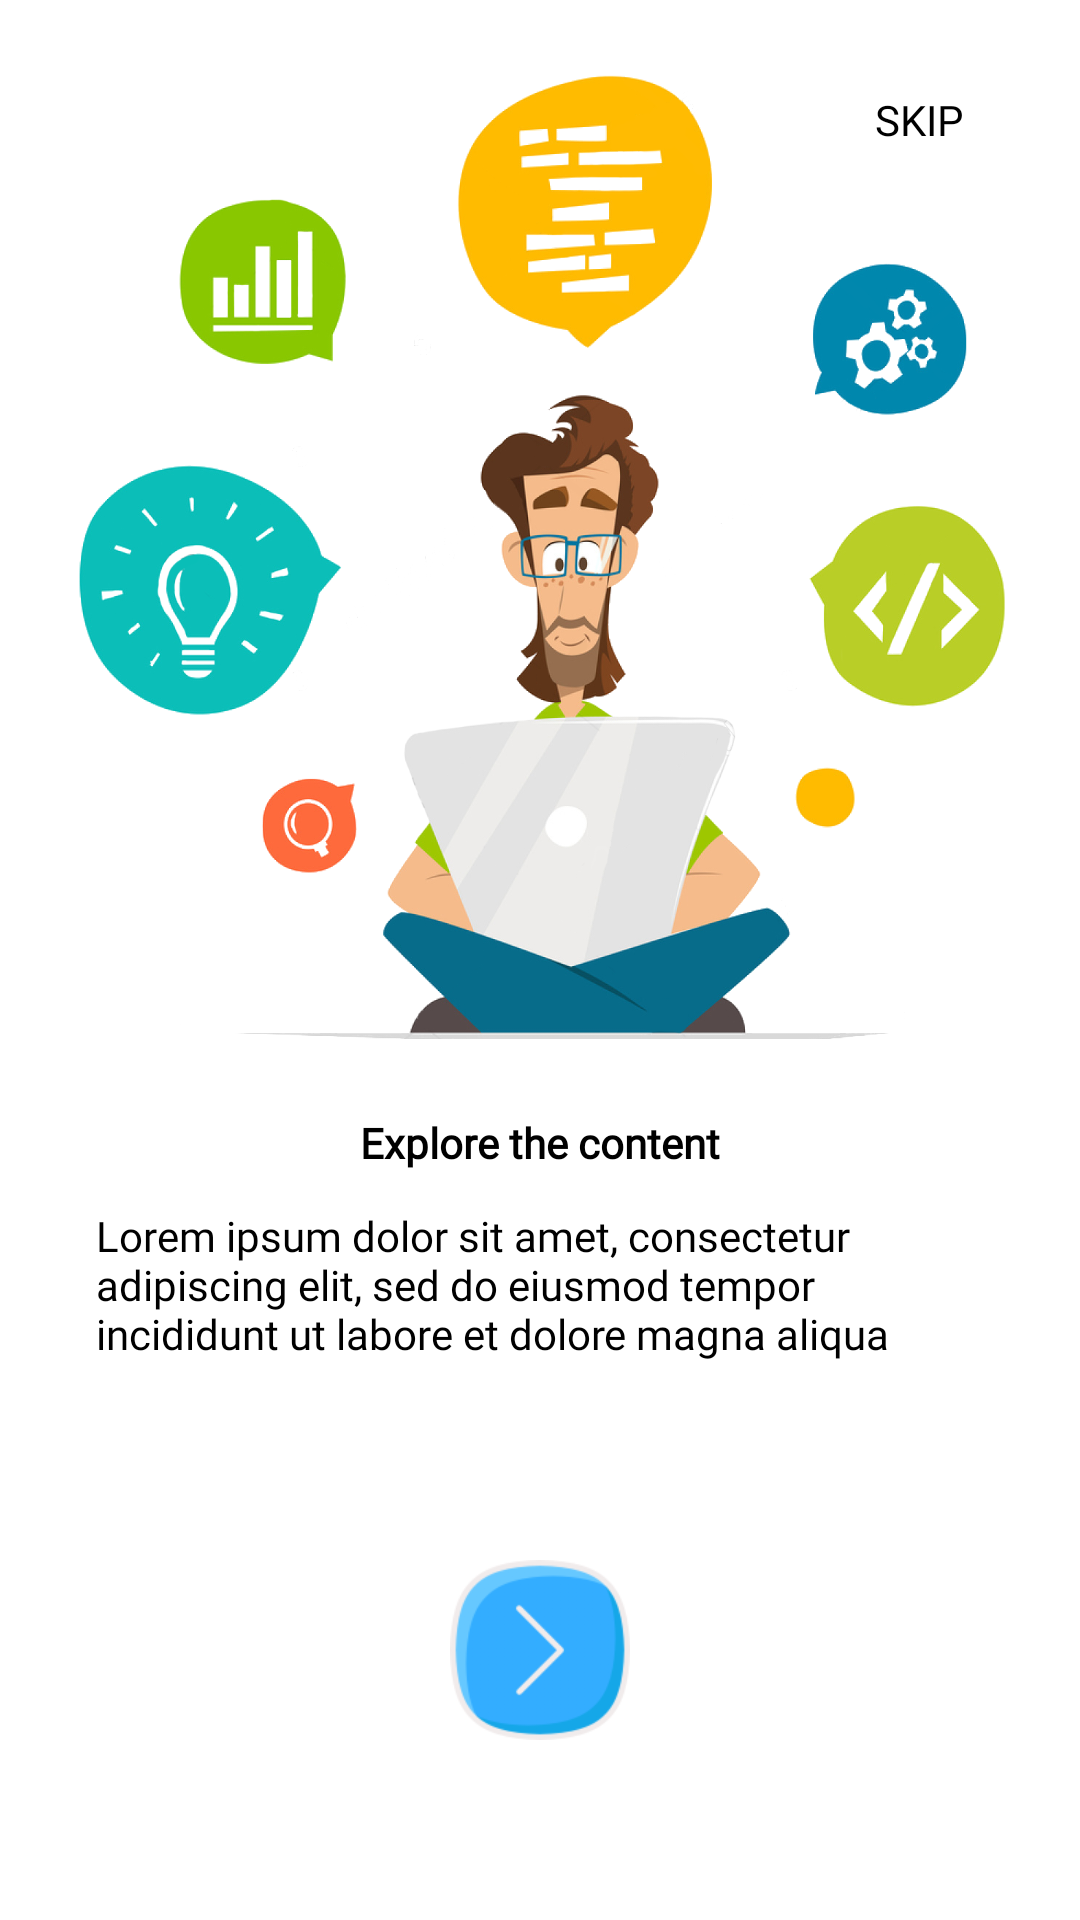

Screen size 1080w x 1920h. Icon name, then its center in pixels as point (x, y):
rightbtn: point (540, 1650)
